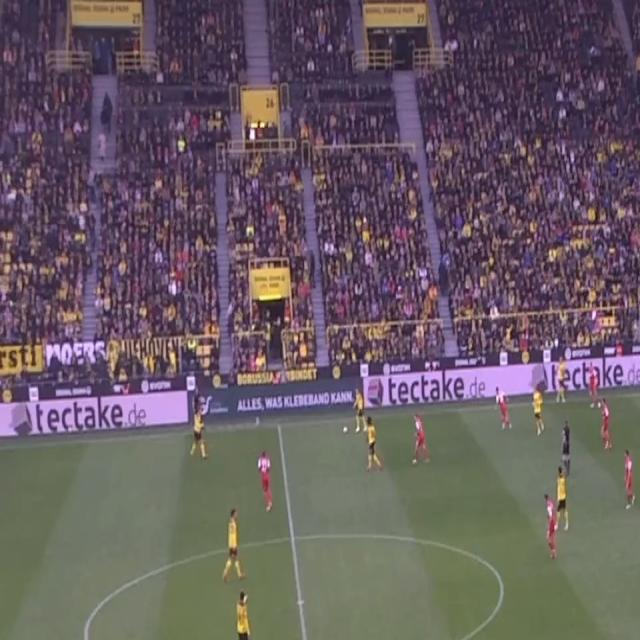ball: (341, 422, 349, 437)
